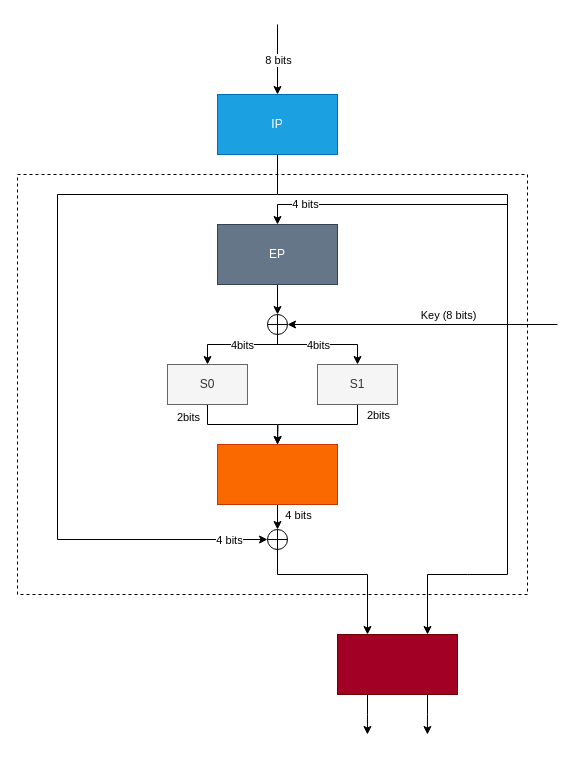
Image size: 583x760. Some labels were removed from this diagram. Here are the shapes that lost their labels. From the top down, the centre of each, then its label:
At point 277,474: "P4".
At point 397,664: "SW".
